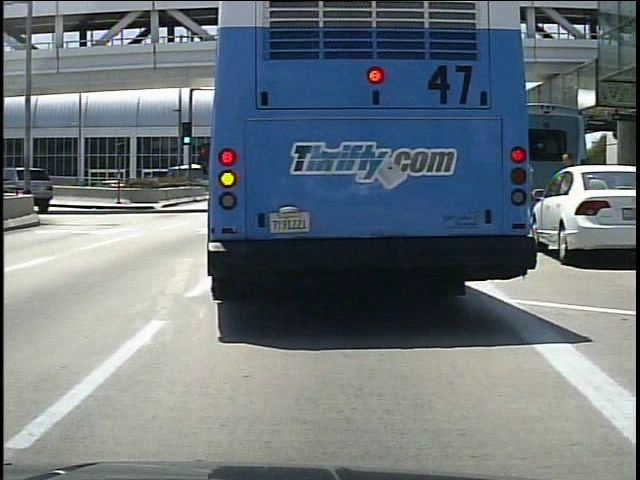person: (555, 150, 580, 248)
